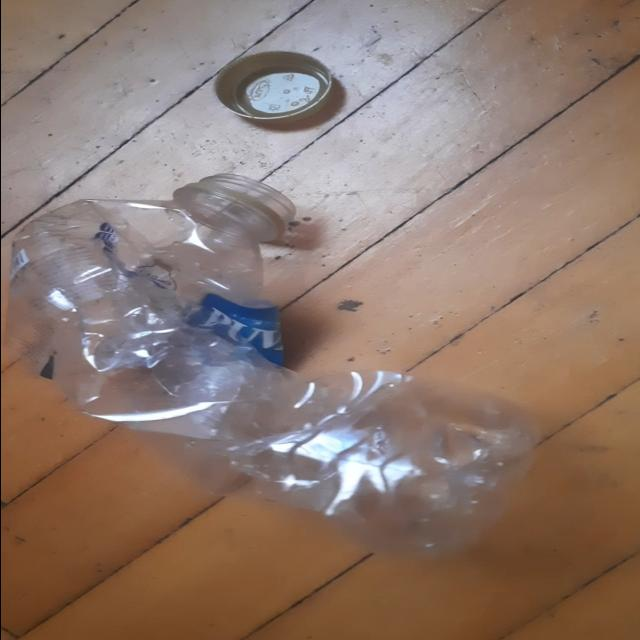Plastic: (6, 175, 542, 559)
